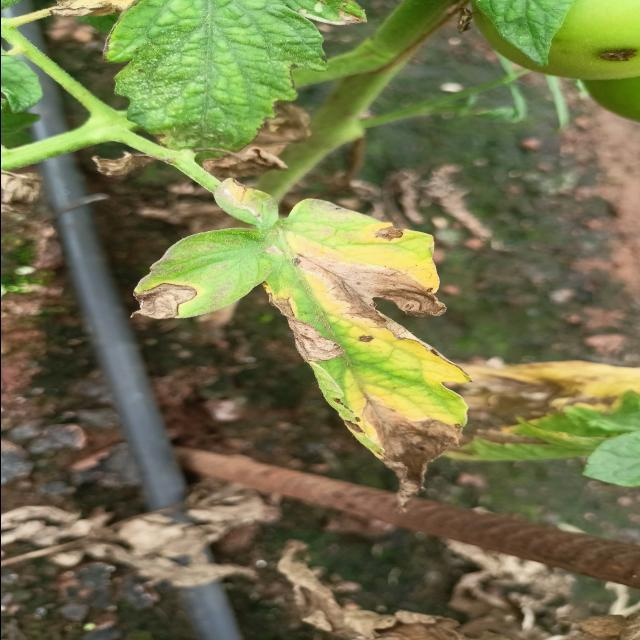Tomato mosaic virus leaf: (274, 218, 474, 515), (120, 225, 272, 324)
